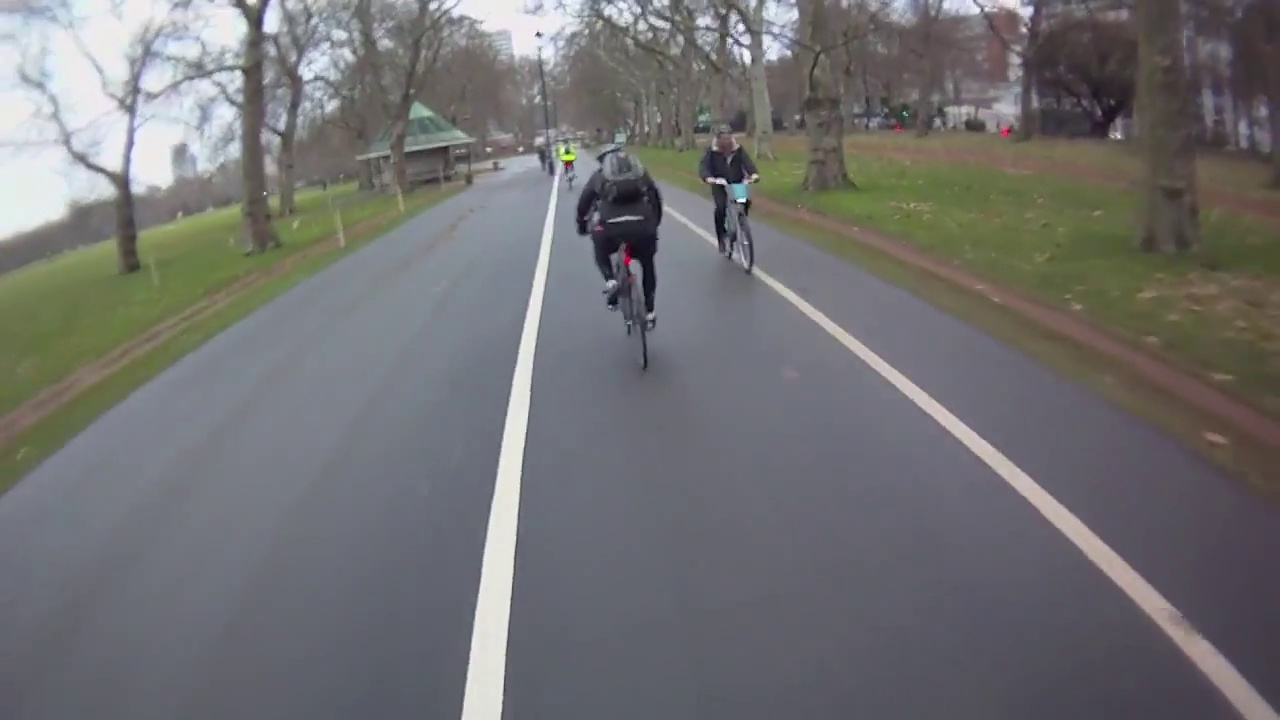cyclist_back: (579, 130, 671, 371), (555, 134, 580, 189)
cyclist_front: (695, 115, 772, 289)
